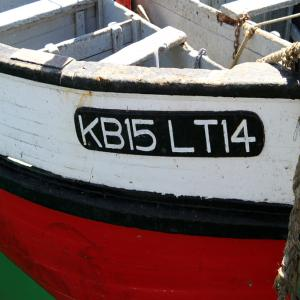Vehicle-registration-plate: (15, 84, 272, 247)
